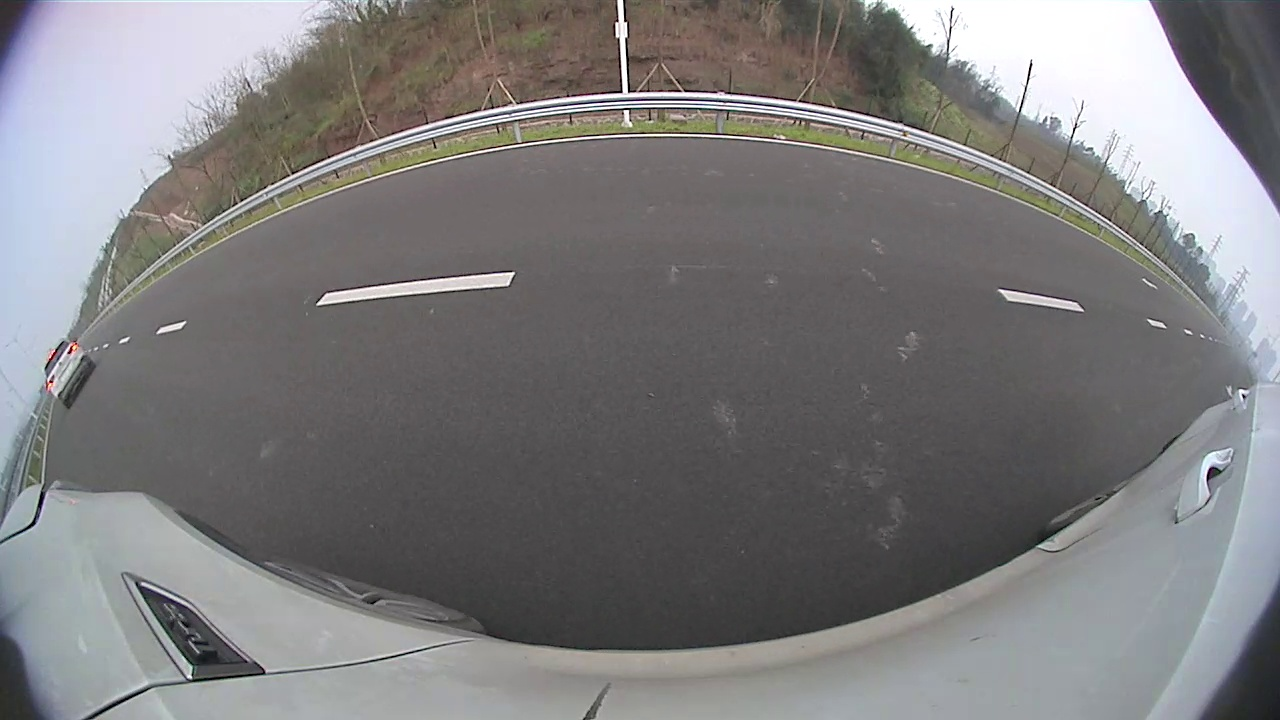car: (44, 338, 95, 408)
